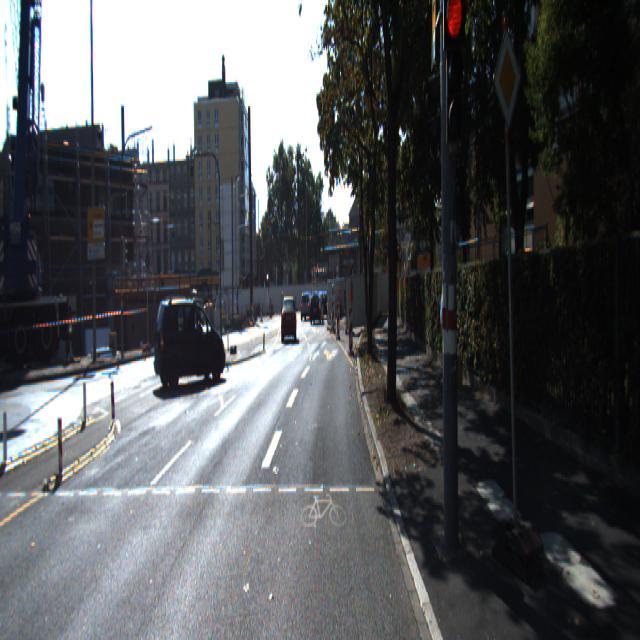Car: (150, 293, 228, 390), (170, 291, 205, 349), (280, 288, 296, 336), (310, 291, 324, 322)
